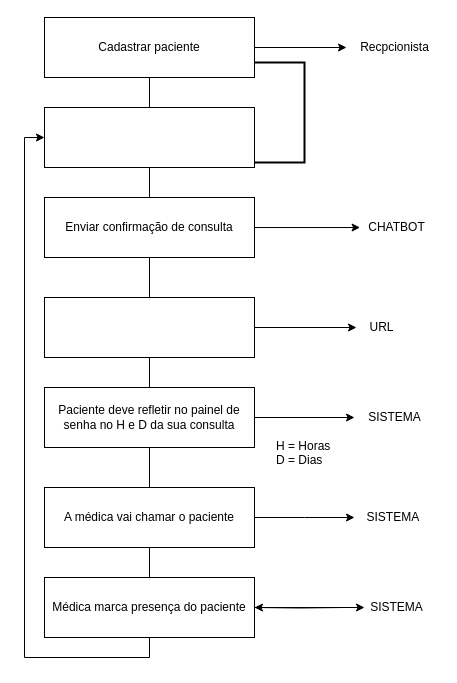
This 457x683 diagram has some shape labels left out. The centre of each missing label's shape, as x and y in pixels:
"Marcar consulta" goes at [149,137].
"Paciente vai confirmar consulta" goes at [149,327].
